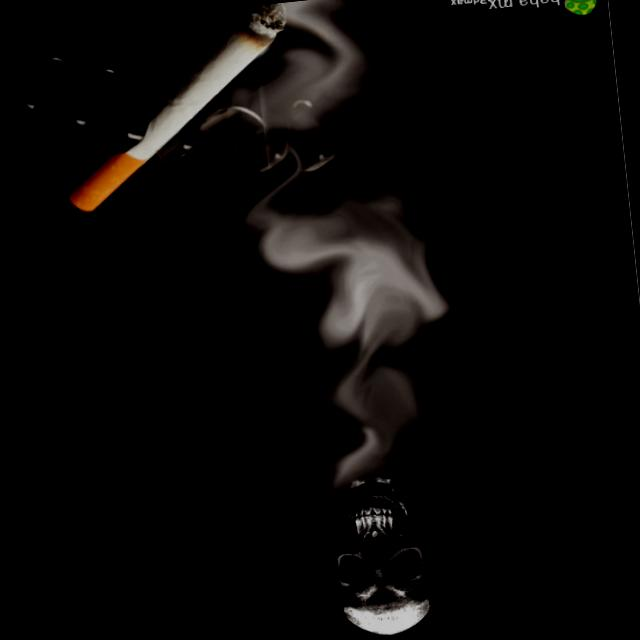smoke: (45, 3, 304, 215)
